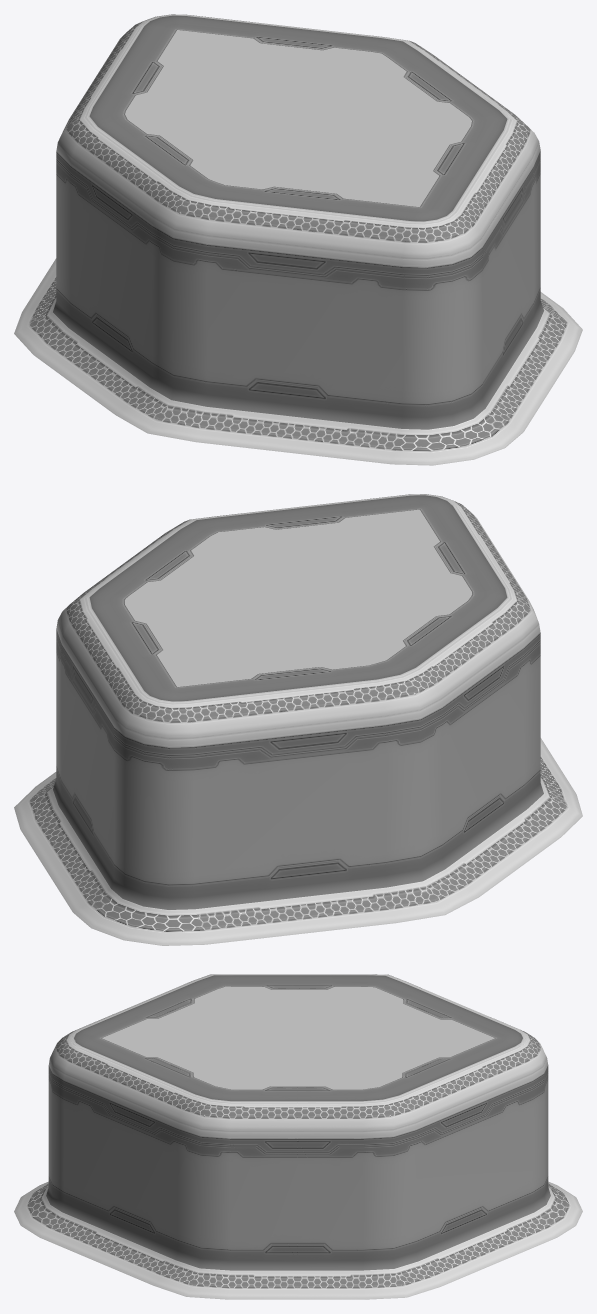
The model's file is Wall_Module01.fbx.
The picture shows the model from 3 angles, top to bottom: view 1: azimuth 30°, elevation 25°; view 2: azimuth 150°, elevation 25°; view 3: azimuth 270°, elevation 25°; orthographic projection. The views are drawn at different scales.
Parts seen in each view (by area): view 1: ModuleMax; view 2: ModuleMax; view 3: ModuleMax.
Boxes of the visible parts, x1,y1,x2,y2 form: ModuleMax: (14, 14, 582, 465); ModuleMax: (14, 494, 582, 945); ModuleMax: (14, 974, 582, 1299).
Bounding box in the file's own units: 0.0651 × 0.0299 × 0.0887.
